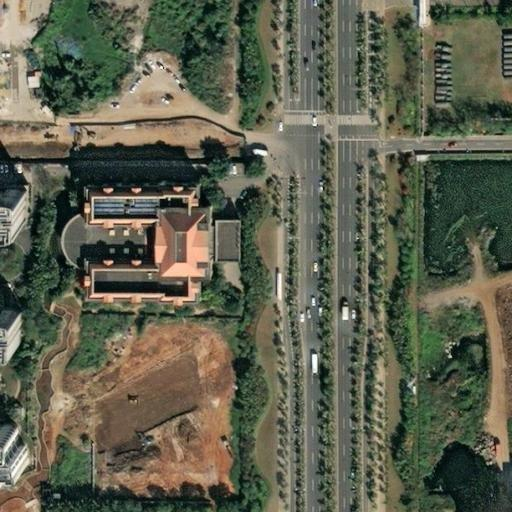building: (84, 182, 235, 298), (64, 217, 146, 273), (0, 189, 23, 226), (0, 302, 22, 339), (0, 418, 14, 458), (417, 0, 424, 23), (506, 492, 512, 505)
